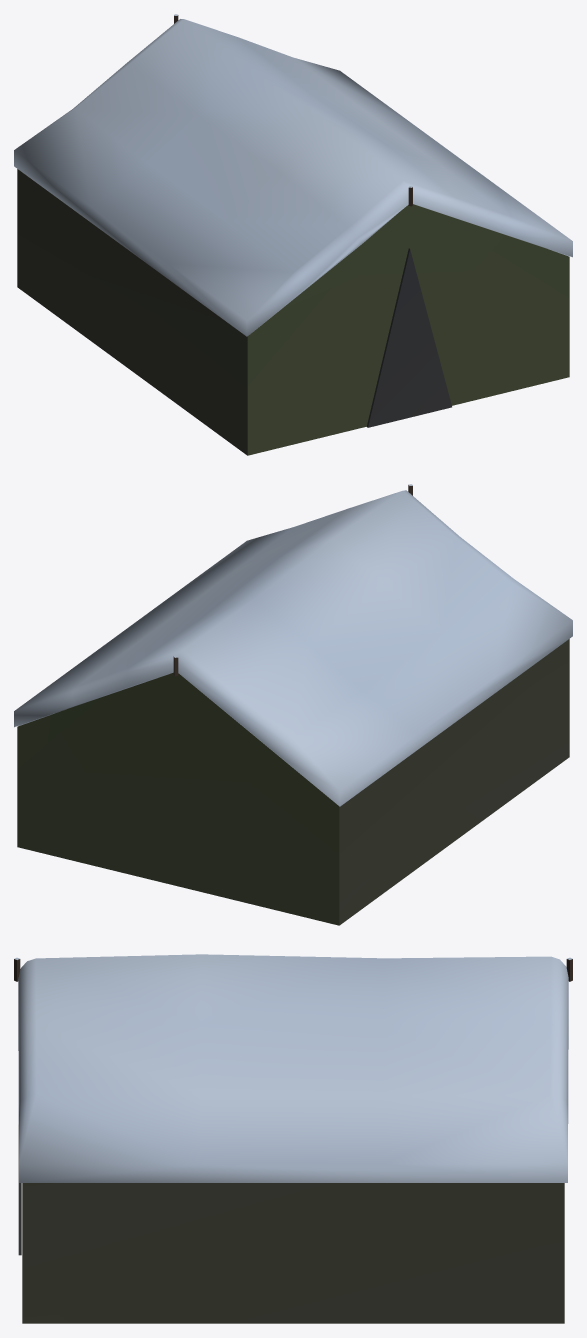
The model's file is mil_tent.glb.
The picture shows the model from 3 angles, top to bottom: view 1: azimuth 30°, elevation 25°; view 2: azimuth 150°, elevation 25°; view 3: azimuth 270°, elevation 25°; orthographic projection. The views are drawn at different scales.
Parts seen in each view (by area): view 1: Prop; view 2: Prop; view 3: Prop.
Part boxes in pixels (box(x1,y1,x2,y2)): Prop: box(14, 14, 572, 455); Prop: box(14, 484, 572, 925); Prop: box(14, 954, 572, 1323).
Bounding box in the file's own units: 4.25 × 2.93 × 5.36.
